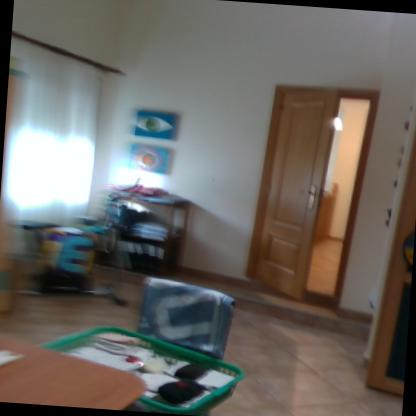semi: (249, 72, 386, 313)
